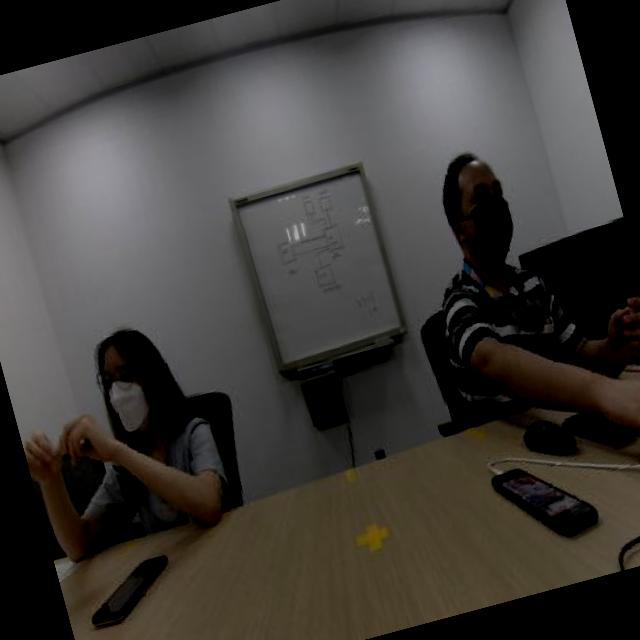Person: (374, 122, 586, 426), (19, 274, 250, 548)
